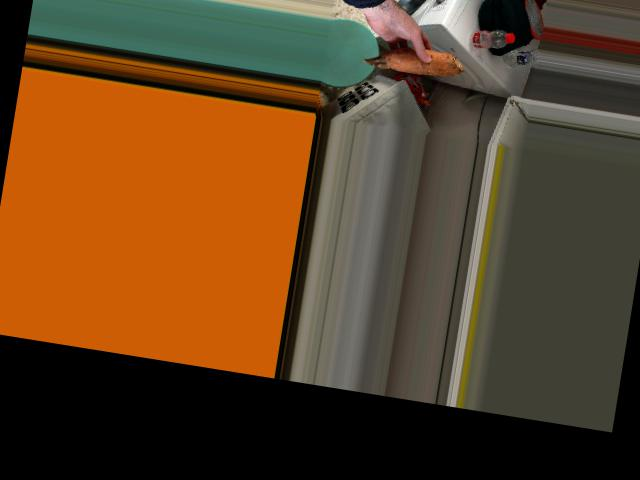sweet_potato: (370, 37, 459, 82)
